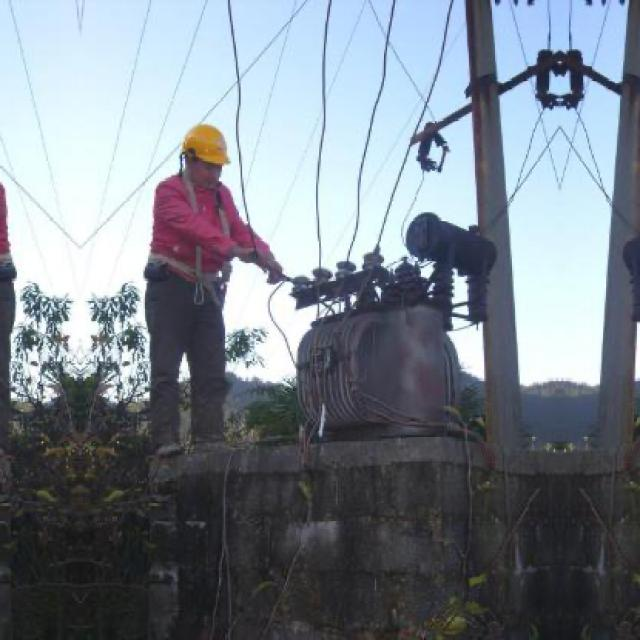helmet: (177, 120, 230, 191)
